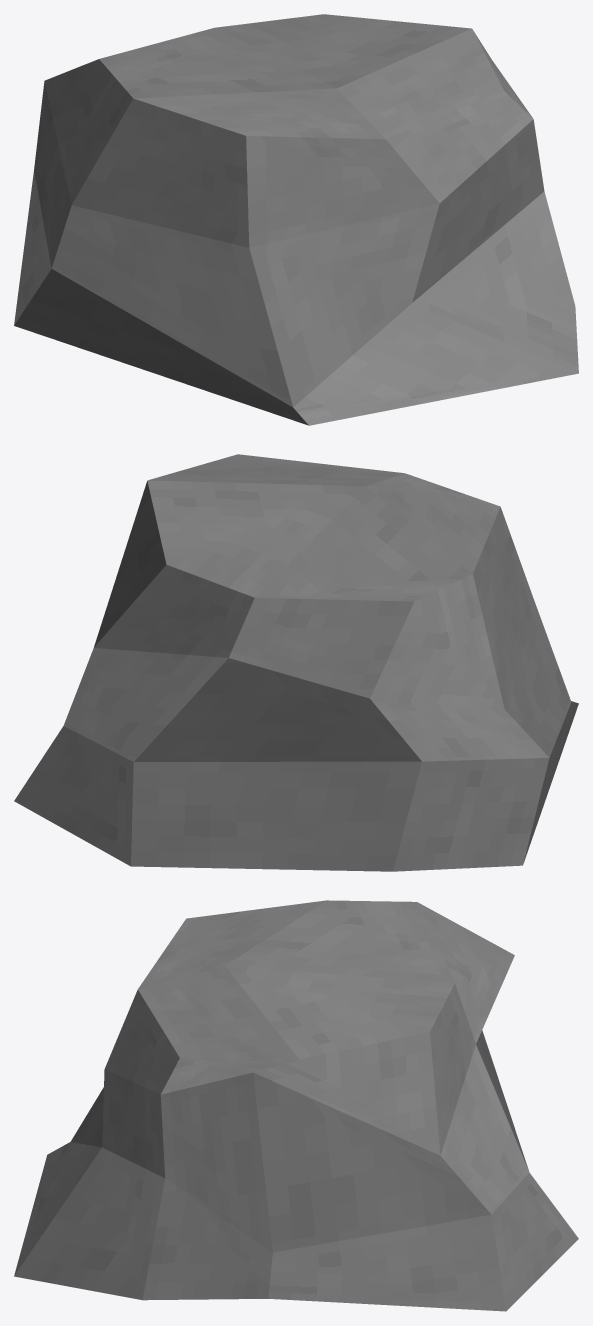
File: Stone2.fbx
3 renders of one model, top to bottom at view 1: azimuth 30°, elevation 25°; view 2: azimuth 150°, elevation 25°; view 3: azimuth 270°, elevation 25°, orthographic. The views are drawn at different scales.
Visible parts, largest first — view 1: stone2; view 2: stone2; view 3: stone2.
Part boxes in pixels (bbox=[...]): stone2: bbox=[14, 14, 578, 425]; stone2: bbox=[14, 454, 578, 871]; stone2: bbox=[14, 900, 578, 1311].
Bounding box in the file's own units: 1.74 × 0.9491 × 1.95.
